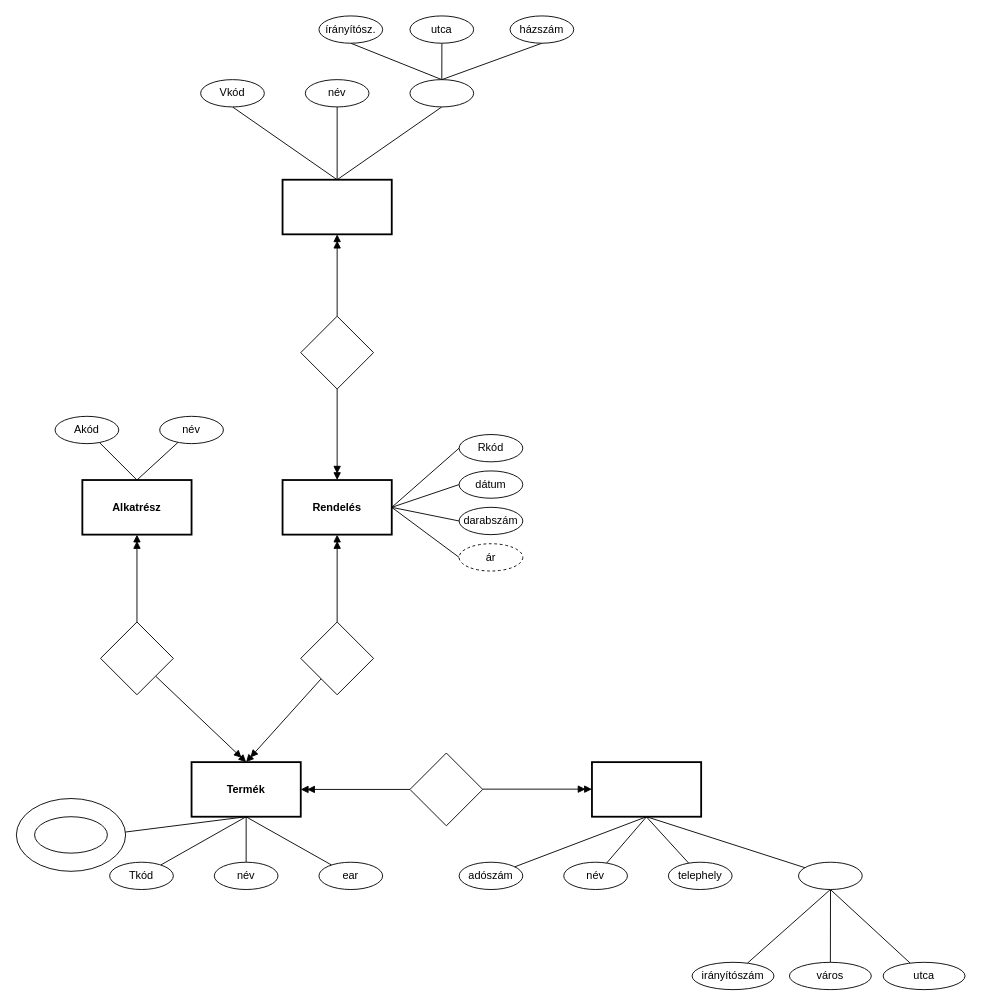
Some shapes in this 981 by 1006 pixel diagram are drawn without their labels. The shapes that lost their labels are listed below. From the top down, each one's centre as x and y in pixels, then its label:
At point (441, 93): "lakcím".
At point (336, 206): "Vevő".
At point (337, 352): "V-R".
At point (136, 658): "A-T".
At point (337, 658): "R-T".
At point (446, 789): "T-Gy".
At point (646, 789): "Gyártó".
At point (70, 834): "egys. darabsz.".
At point (830, 875): "postai cím".
